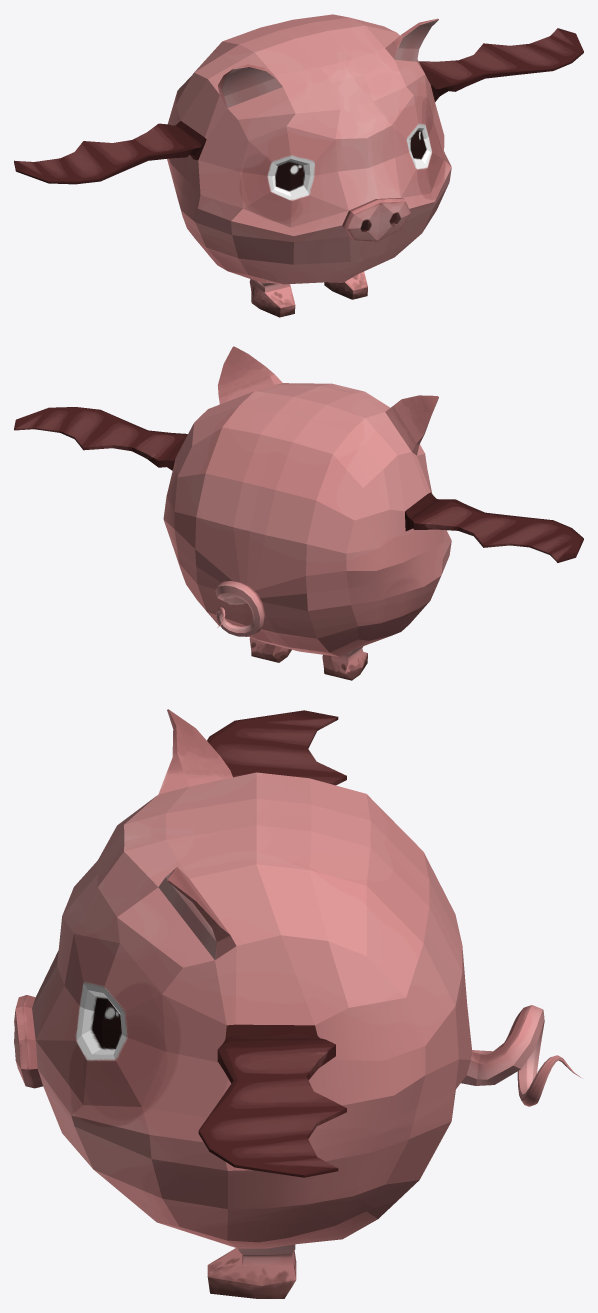
Rendered from MedievalFlying.fbx.
The picture shows the model from 3 angles, top to bottom: view 1: azimuth 30°, elevation 25°; view 2: azimuth 150°, elevation 25°; view 3: azimuth 270°, elevation 25°; orthographic projection. The views are drawn at different scales.
Visible parts, largest first — view 1: Flying_Medieval; view 2: Flying_Medieval; view 3: Flying_Medieval.
Boxes of the visible parts, x1,y1,x2,y2 form: Flying_Medieval: (14, 14, 583, 317); Flying_Medieval: (14, 346, 583, 680); Flying_Medieval: (14, 709, 582, 1298).
Bounding box in the file's own units: 202 × 94.04 × 105.
Materials: 1 (1 with a texture image).
